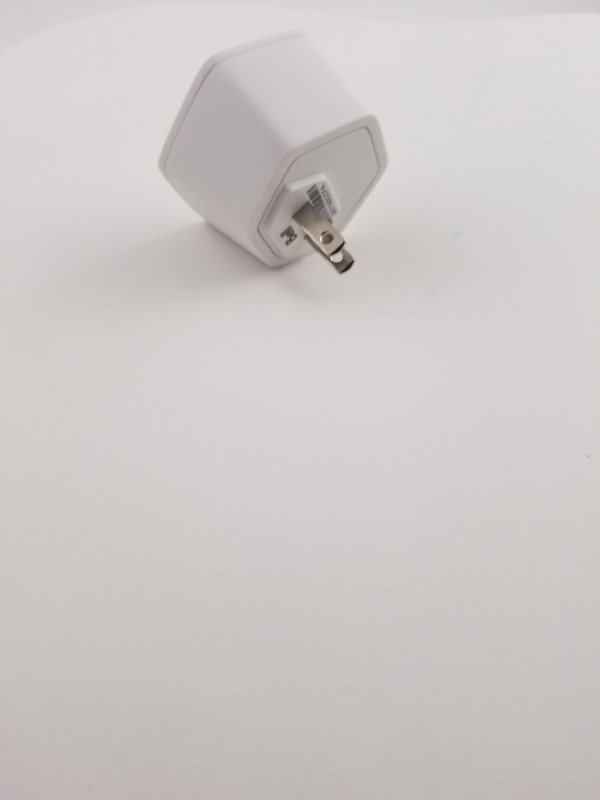pod: (153, 22, 398, 288)
